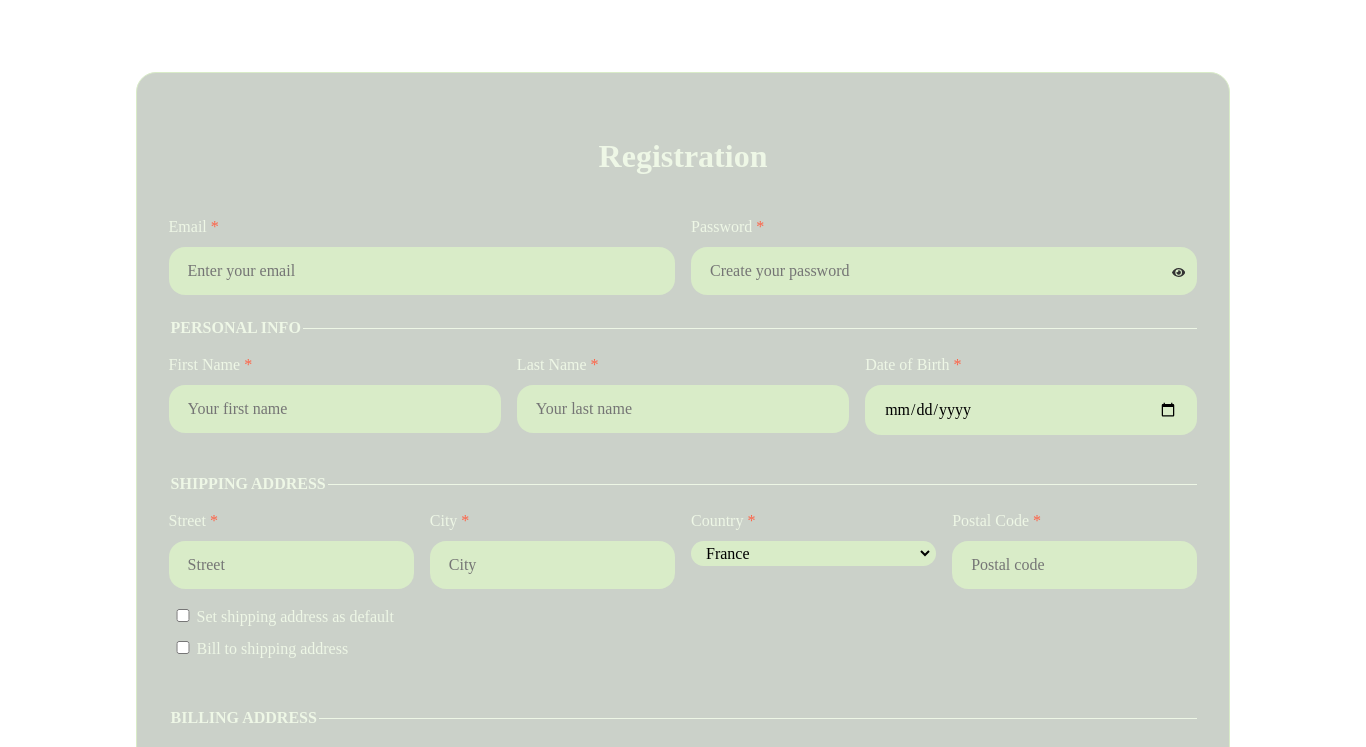
Test: <RegistrationForm/> component › Render Registration Form component - Email Validation
Type "someEmail" into the field with placeholder "Enter your email" at (422, 271), box [169,247,675,295]
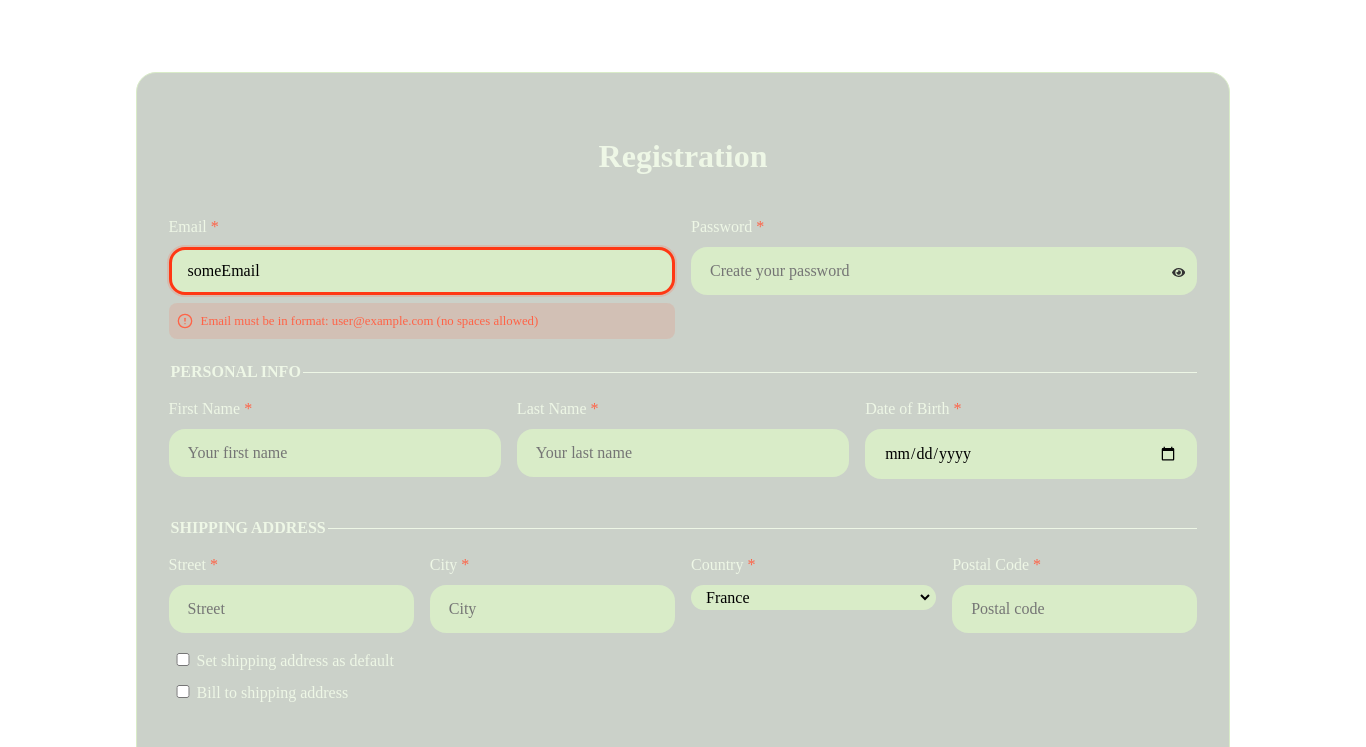
expect the text with test id "error-input-test-id" is shown: met, box [201,314,538,329]
expect the text with test id "error-input-test-id" reads "Email must be in format: user@example.com (no spaces allowed)": met, box [201,314,538,328]
